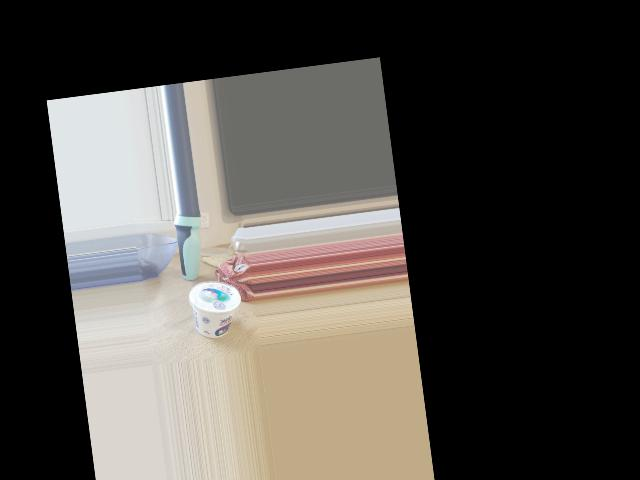cotage: (183, 274, 237, 343)
